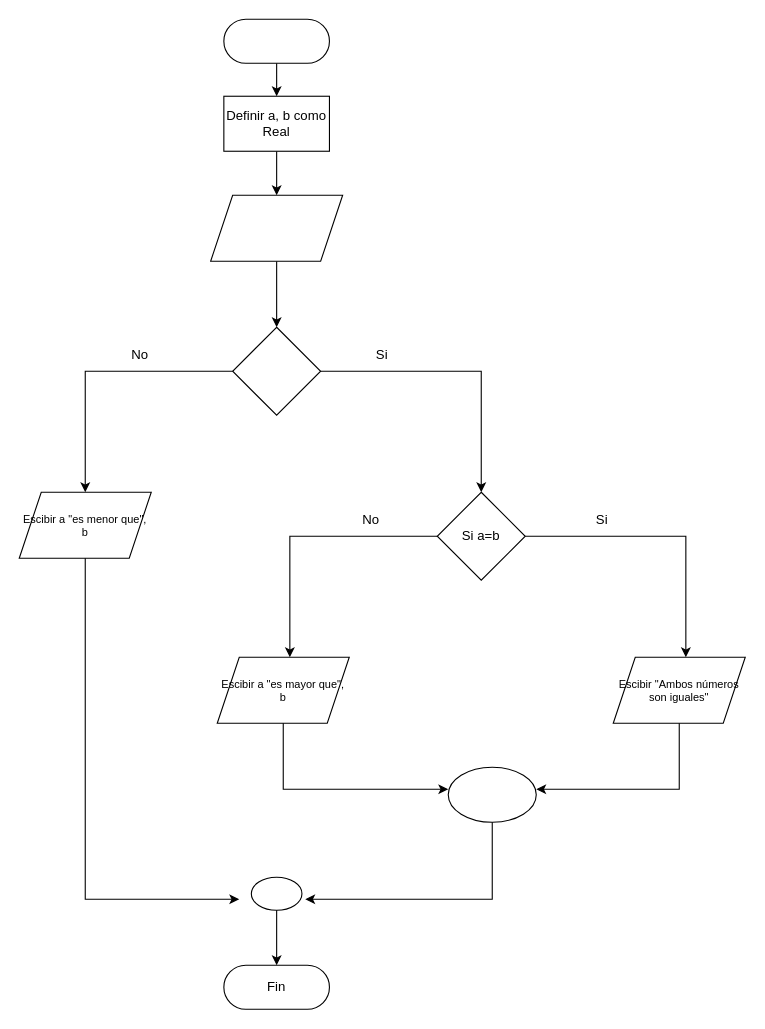
The diagram is 765 pixels wide and 1029 high, and some of its shapes have lost their labels. Here are the shapes that lost their labels. From the top down, the centre of each, then its label:
At point (276, 40): "Inicio".
At point (276, 227): "Leer A Leer B".
At point (276, 370): "Si a>=b".
